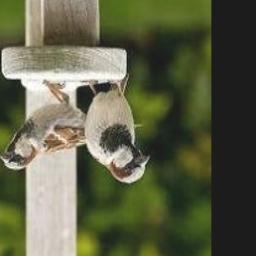Sparrow: (0, 81, 142, 171), (80, 81, 150, 185)
